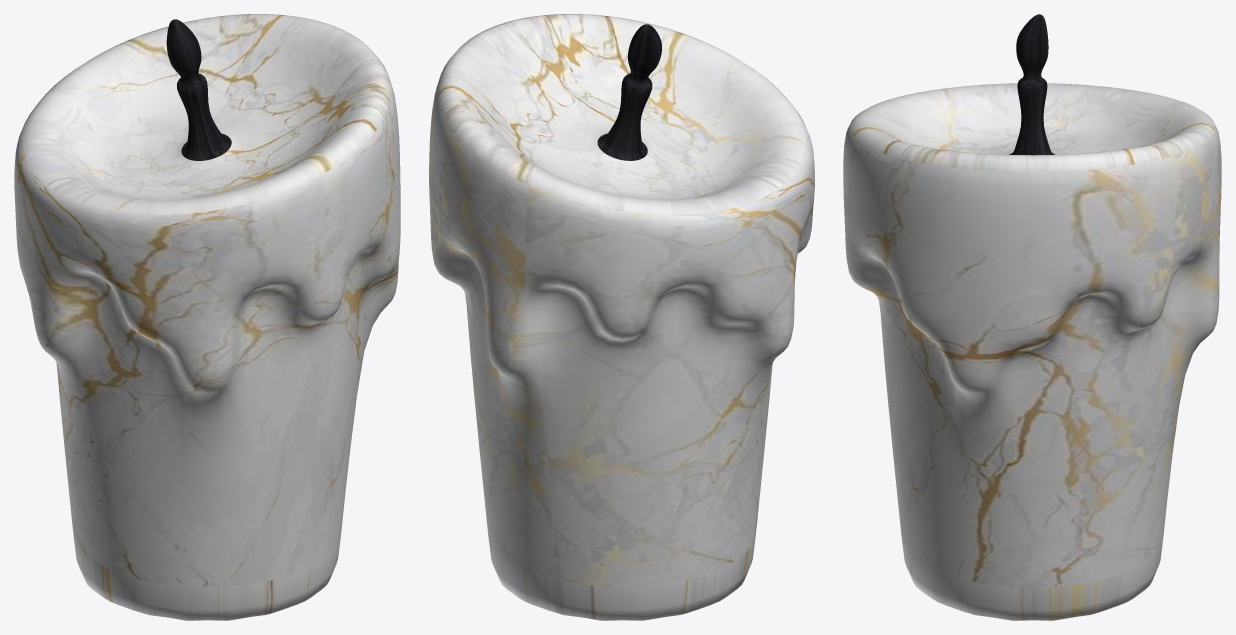
Rendered from Bella.fbx.
The picture shows the model from 3 angles, left to right: view 1: azimuth 30°, elevation 25°; view 2: azimuth 150°, elevation 25°; view 3: azimuth 270°, elevation 25°; orthographic projection. The views are drawn at different scales.
Parts seen in each view (by area): view 1: Bela; view 2: Bela; view 3: Bela.
Boxes of the visible parts, x1,y1,x2,y2 form: Bela: (14,14,400,620); Bela: (429,14,814,620); Bela: (843,14,1221,620).
Size of the model in its own units: 0.5251 by 0.8351 by 0.5252.
Materials: 2 (2 with a texture image).
